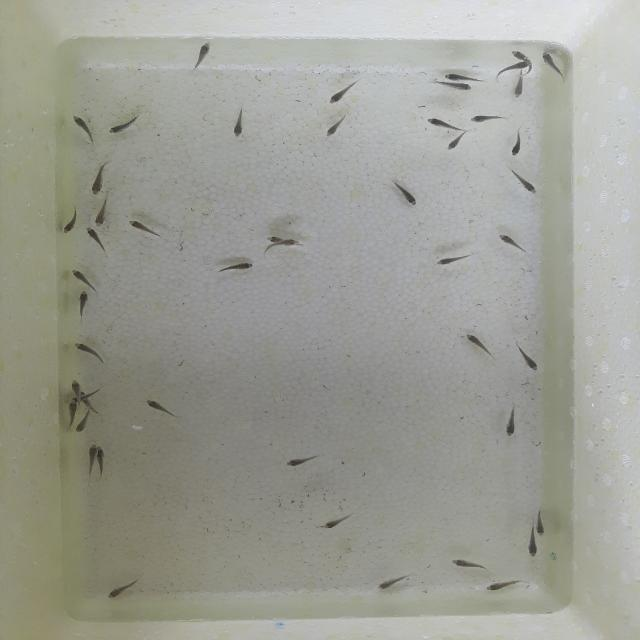fingerling: (320, 78, 364, 107), (104, 574, 145, 600), (226, 111, 253, 143), (320, 509, 358, 531), (391, 182, 419, 210), (515, 347, 542, 376), (373, 570, 412, 590), (512, 171, 544, 194), (86, 166, 110, 196), (500, 403, 520, 439), (492, 231, 526, 252), (480, 577, 523, 593), (195, 41, 214, 76), (322, 119, 354, 139), (70, 114, 94, 140), (108, 115, 137, 136), (460, 331, 489, 352), (280, 453, 317, 468), (539, 51, 563, 74), (60, 211, 83, 235), (446, 559, 492, 571), (95, 200, 112, 229), (420, 117, 460, 129), (70, 412, 94, 432), (508, 132, 526, 158), (127, 219, 158, 234), (443, 136, 468, 154), (73, 343, 101, 359), (74, 290, 92, 314), (430, 257, 472, 267), (96, 444, 111, 472), (144, 398, 170, 414), (498, 61, 532, 72), (73, 267, 91, 287), (433, 83, 472, 92), (220, 262, 258, 271), (64, 398, 78, 422), (469, 114, 506, 123), (86, 225, 101, 246), (444, 71, 478, 80), (513, 77, 528, 97), (537, 509, 547, 539), (70, 379, 84, 399), (88, 442, 98, 469), (528, 528, 537, 557), (510, 50, 532, 60), (275, 238, 303, 245)
